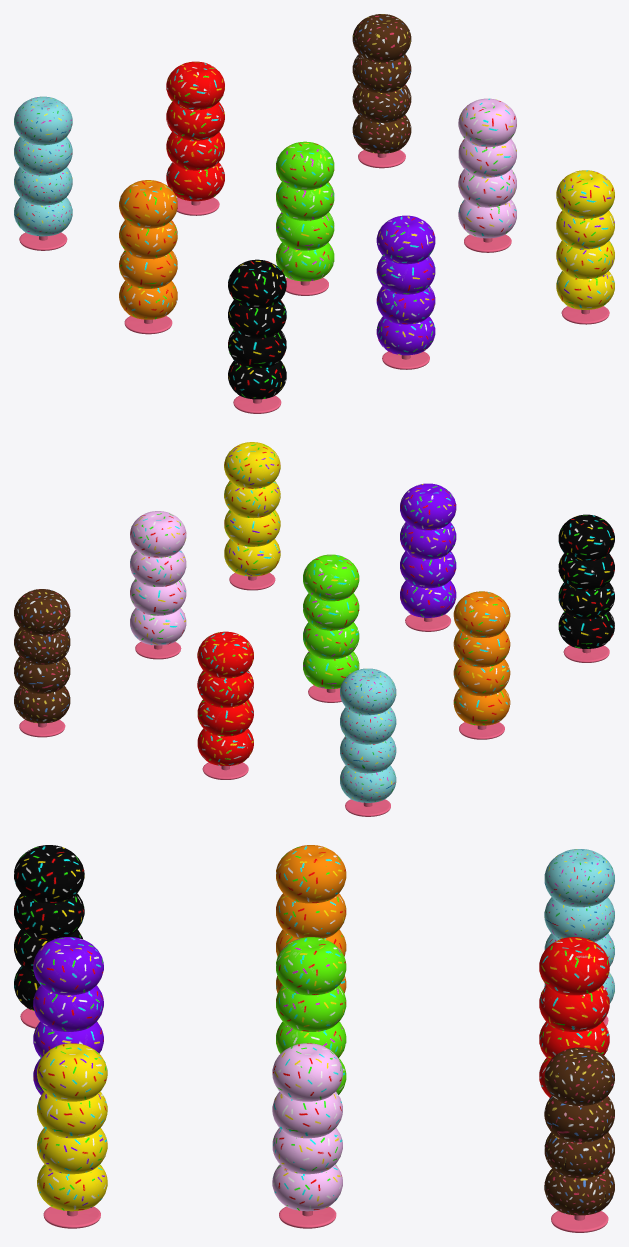
The model's file is BubbleObstacle.fbx.
3 views of the same model, one above another, from view 1: azimuth 30°, elevation 25°; view 2: azimuth 150°, elevation 25°; view 3: azimuth 270°, elevation 25° (orthographic). The views are drawn at different scales.
Visible parts, largest first — view 1: BO. Bubble 1.001, BO. Bubble 1, BO. Bubble 1.003, BO. Bubble 1.006, BO. Bubble 1.004, BO. Bubble 1.007, BO. Bubble 1.008, BO. Bubble 1.002, BO. Bubble 1.005, BO. Bubble 4.001, BO. Bubble 4.004, BO. Bubble 4.008 (+33 smaller); view 2: BO. Bubble 1.008, BO. Bubble 1.001, BO. Bubble 1.002, BO. Bubble 1.003, BO. Bubble 1.004, BO. Bubble 1.006, BO. Bubble 1.007, BO. Bubble 1, BO. Bubble 1.005, BO. Bubble 4.004, BO. Bubble 4.006, BO. Bubble 4.007 (+32 smaller); view 3: BO. Bubble 1.003, BO. Bubble 1.007, BO. Bubble 1.001, BO. Bubble 1, BO. Bubble 1.005, BO. Bubble 1.008, BO. Bubble 1.002, BO. Bubble 1.004, BO. Bubble 1.006, BO. Bubble 4.006, BO. Bubble 4.003, BO. Bubble 4.007 (+21 smaller).
Part boxes in pixels (left/top/right/bottom): BO. Bubble 1.001: left=376, top=215, right=435, bottom=264; BO. Bubble 1: left=276, top=141, right=334, bottom=190; BO. Bubble 1.003: left=458, top=98, right=516, bottom=147; BO. Bubble 1.006: left=352, top=14, right=411, bottom=62; BO. Bubble 1.004: left=119, top=180, right=177, bottom=228; BO. Bubble 1.007: left=556, top=170, right=614, bottom=218; BO. Bubble 1.008: left=228, top=259, right=286, bottom=308; BO. Bubble 1.002: left=166, top=61, right=224, bottom=110; BO. Bubble 1.005: left=14, top=96, right=72, bottom=145; BO. Bubble 4.001: left=376, top=316, right=435, bottom=355; BO. Bubble 4.004: left=119, top=280, right=177, bottom=319; BO. Bubble 4.008: left=228, top=360, right=286, bottom=399; BO. Bubble 1.008: left=558, top=514, right=614, bottom=561; BO. Bubble 1.001: left=400, top=483, right=456, bottom=530; BO. Bubble 1.002: left=197, top=631, right=253, bottom=678; BO. Bubble 1.003: left=130, top=511, right=186, bottom=557; BO. Bubble 1.004: left=453, top=591, right=510, bottom=637; BO. Bubble 1.006: left=14, top=589, right=70, bottom=635; BO. Bubble 1.007: left=224, top=442, right=280, bottom=488; BO. Bubble 1: left=303, top=554, right=359, bottom=601; BO. Bubble 1.005: left=340, top=668, right=396, bottom=715; BO. Bubble 4.004: left=453, top=688, right=510, bottom=725; BO. Bubble 4.006: left=14, top=686, right=70, bottom=723; BO. Bubble 4.007: left=224, top=539, right=280, bottom=576; BO. Bubble 1.003: left=272, top=1043, right=342, bottom=1101; BO. Bubble 1.007: left=37, top=1043, right=107, bottom=1101; BO. Bubble 1.001: left=33, top=937, right=103, bottom=995; BO. Bubble 1: left=276, top=937, right=346, bottom=995; BO. Bubble 1.005: left=544, top=849, right=614, bottom=907; BO. Bubble 1.008: left=14, top=845, right=84, bottom=903; BO. Bubble 1.002: left=539, top=937, right=609, bottom=995; BO. Bubble 1.004: left=276, top=845, right=346, bottom=903; BO. Bubble 1.006: left=544, top=1047, right=614, bottom=1105; BO. Bubble 4.006: left=544, top=1168, right=614, bottom=1215; BO. Bubble 4.003: left=272, top=1164, right=342, bottom=1211; BO. Bubble 4.007: left=37, top=1164, right=107, bottom=1211.
Size of the model in its own units: 1908 by 637 by 2085.
Materials: 10 (10 with a texture image).
